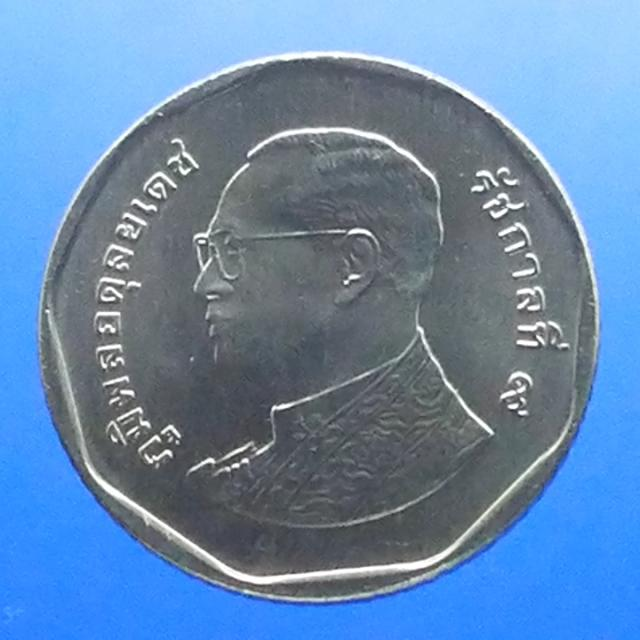5 Bath: (39, 47, 605, 611)
